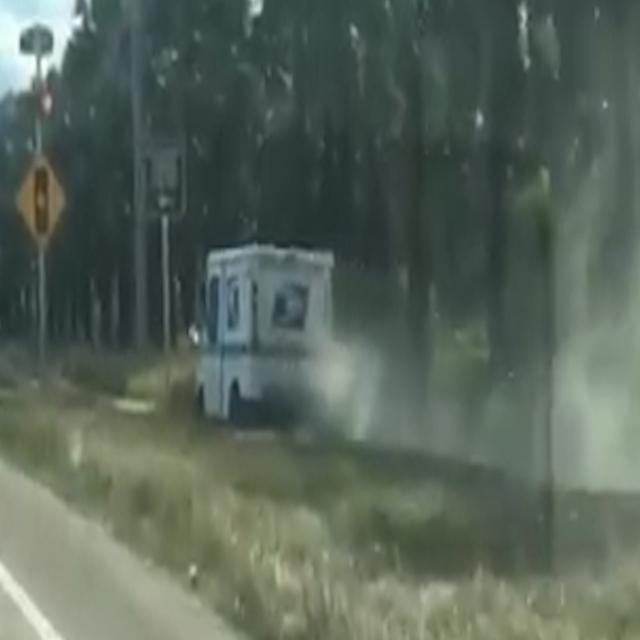bus: (188, 243, 349, 429)
